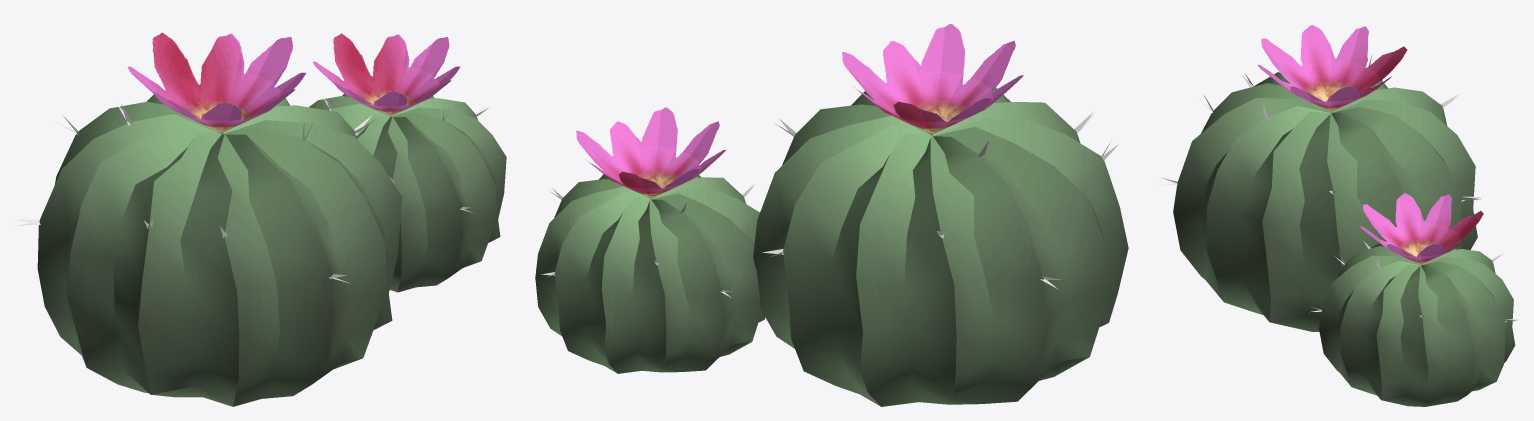
The model's file is plant_08-cactus1.glb.
3 views of the same model, side by side, from view 1: azimuth 30°, elevation 25°; view 2: azimuth 150°, elevation 25°; view 3: azimuth 270°, elevation 25° (orthographic). The views are drawn at different scales.
Parts seen in each view (by area): view 1: cactus1; view 2: cactus1; view 3: cactus1.
Boxes of the visible parts, left/top/right/bottom form: cactus1: left=15, top=32, right=506, bottom=406; cactus1: left=535, top=24, right=1128, bottom=406; cactus1: left=1159, top=25, right=1518, bottom=406.
Size of the model in its own units: 0.469 by 0.2686 by 0.3666.
1 material, 1 textured.
